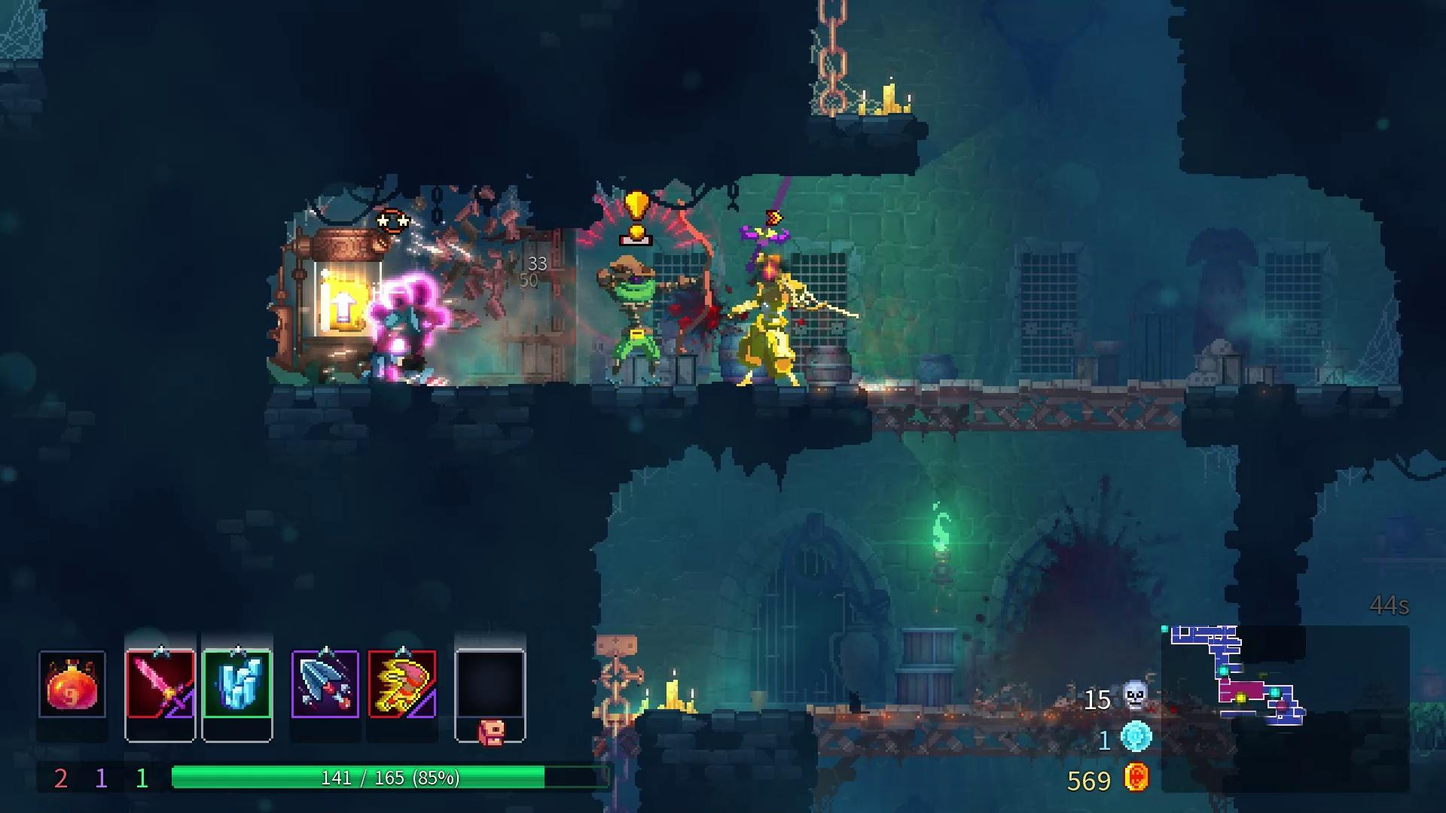gamer: (719, 241, 859, 402)
